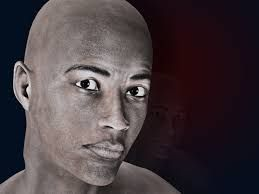no-mask: (7, 2, 161, 188)
